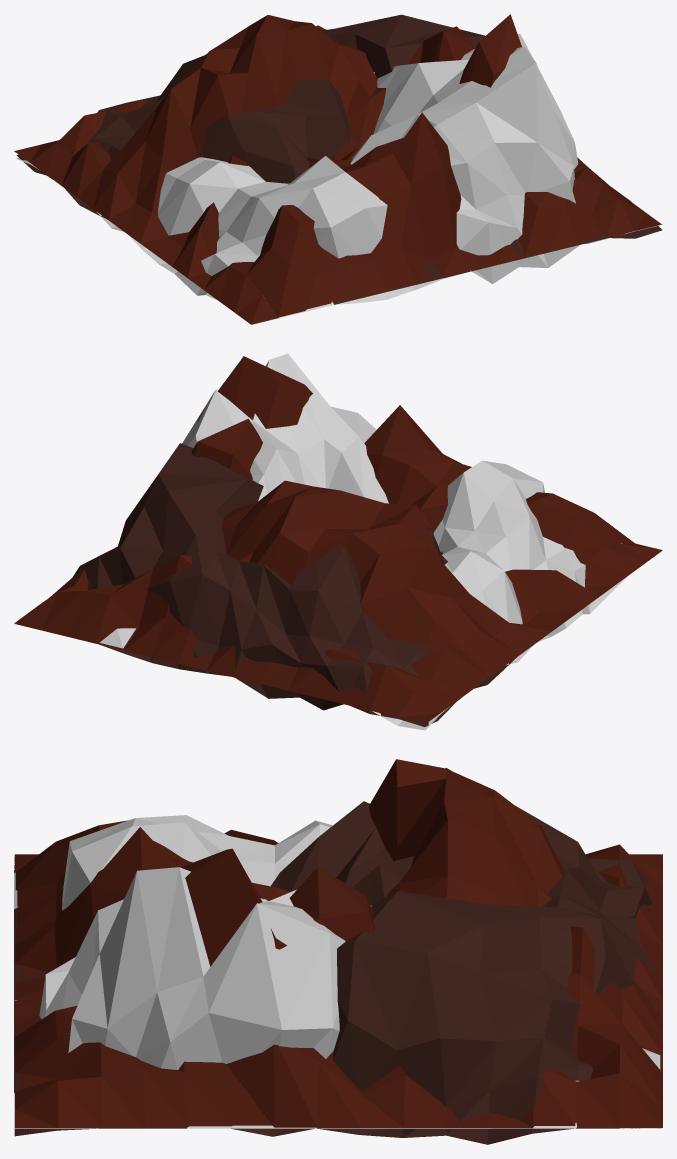
Rendered from mountain06.dae.
3 views of the same model, one above another, from view 1: azimuth 30°, elevation 25°; view 2: azimuth 150°, elevation 25°; view 3: azimuth 270°, elevation 25° (orthographic). The views are drawn at different scales.
Parts seen in each view (by area): view 1: pPlane20, pPlane21, pPlane22; view 2: pPlane20, pPlane22, pPlane21; view 3: pPlane20, pPlane22, pPlane21.
Part boxes in pixels (<box>): pPlane20: <box>14,14,661,324</box>; pPlane21: <box>16,34,662,324</box>; pPlane22: <box>16,14,662,323</box>; pPlane20: <box>14,356,662,723</box>; pPlane22: <box>15,443,661,726</box>; pPlane21: <box>14,353,660,730</box>; pPlane20: <box>15,759,662,1127</box>; pPlane22: <box>14,801,655,1144</box>; pPlane21: <box>14,815,661,1128</box>.
Size of the model in its own units: 401 by 181 by 401.
